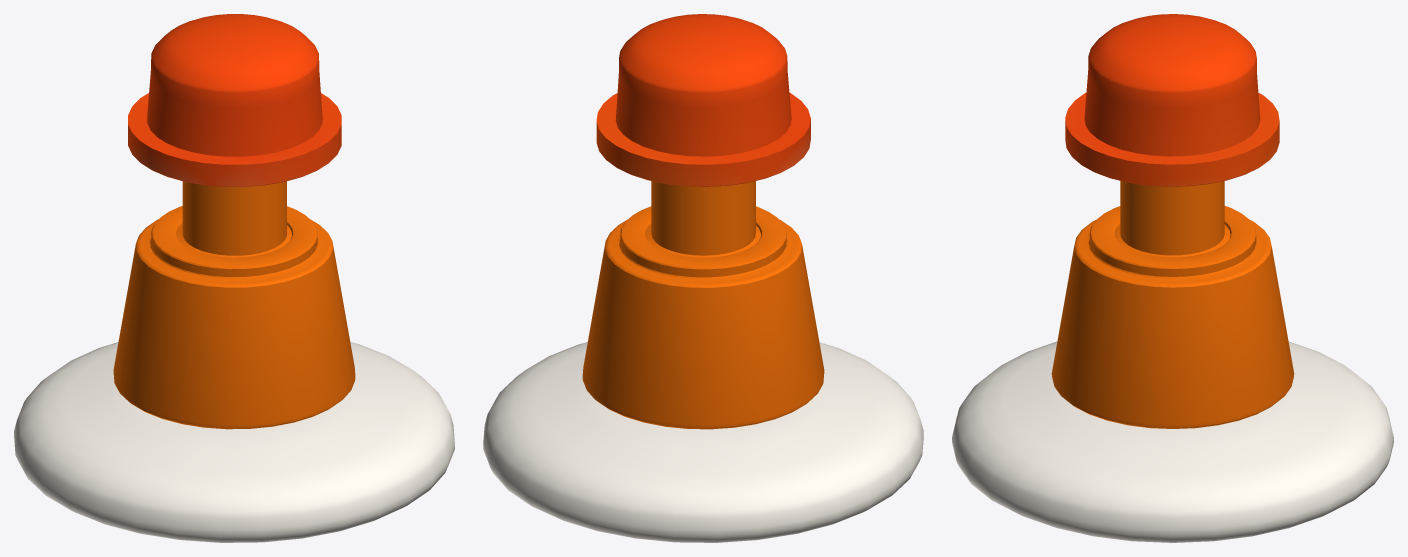
Rendered from cone_light.fbx.
3 views of the same model, side by side, from view 1: azimuth 30°, elevation 25°; view 2: azimuth 150°, elevation 25°; view 3: azimuth 270°, elevation 25° (orthographic).
Visible parts, largest first — view 1: Circle.180; view 2: Circle.180; view 3: Circle.180.
Boxes of the visible parts, x1,y1,x2,y2 form: Circle.180: [14, 14, 454, 542]; Circle.180: [483, 14, 923, 542]; Circle.180: [952, 14, 1393, 542].
Size of the model in its own units: 0.646 by 0.6808 by 0.646.
